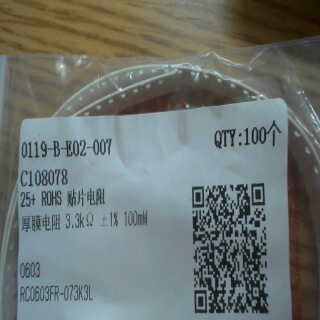3.3kO: (61, 208, 99, 230)
